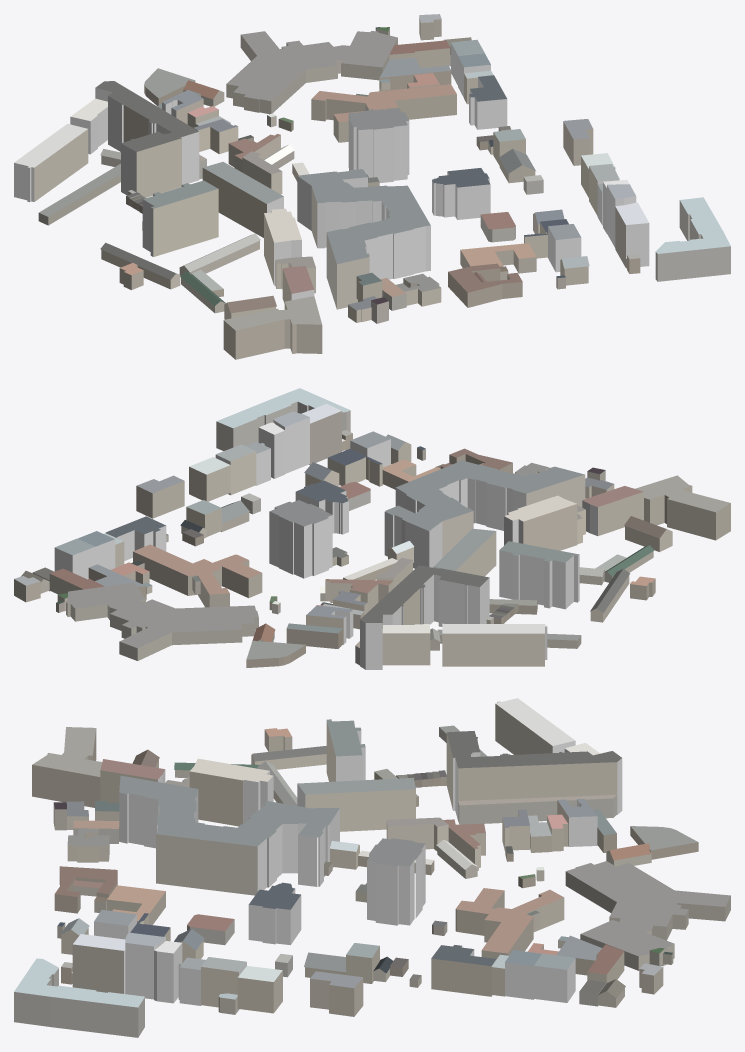
The picture shows the model from 3 angles, top to bottom: view 1: azimuth 30°, elevation 25°; view 2: azimuth 150°, elevation 25°; view 3: azimuth 270°, elevation 25°; orthographic projection. The views are drawn at different scales.
Parts seen in each view (by area): view 1: tuile; view 2: tuile; view 3: tuile.
Part boxes in pixels (x1,y1,x2,y2): tuile: (14,14,730,359); tuile: (14,388,730,669); tuile: (14,698,730,1037).
Size of the model in its own units: 266 by 35.79 by 292.
